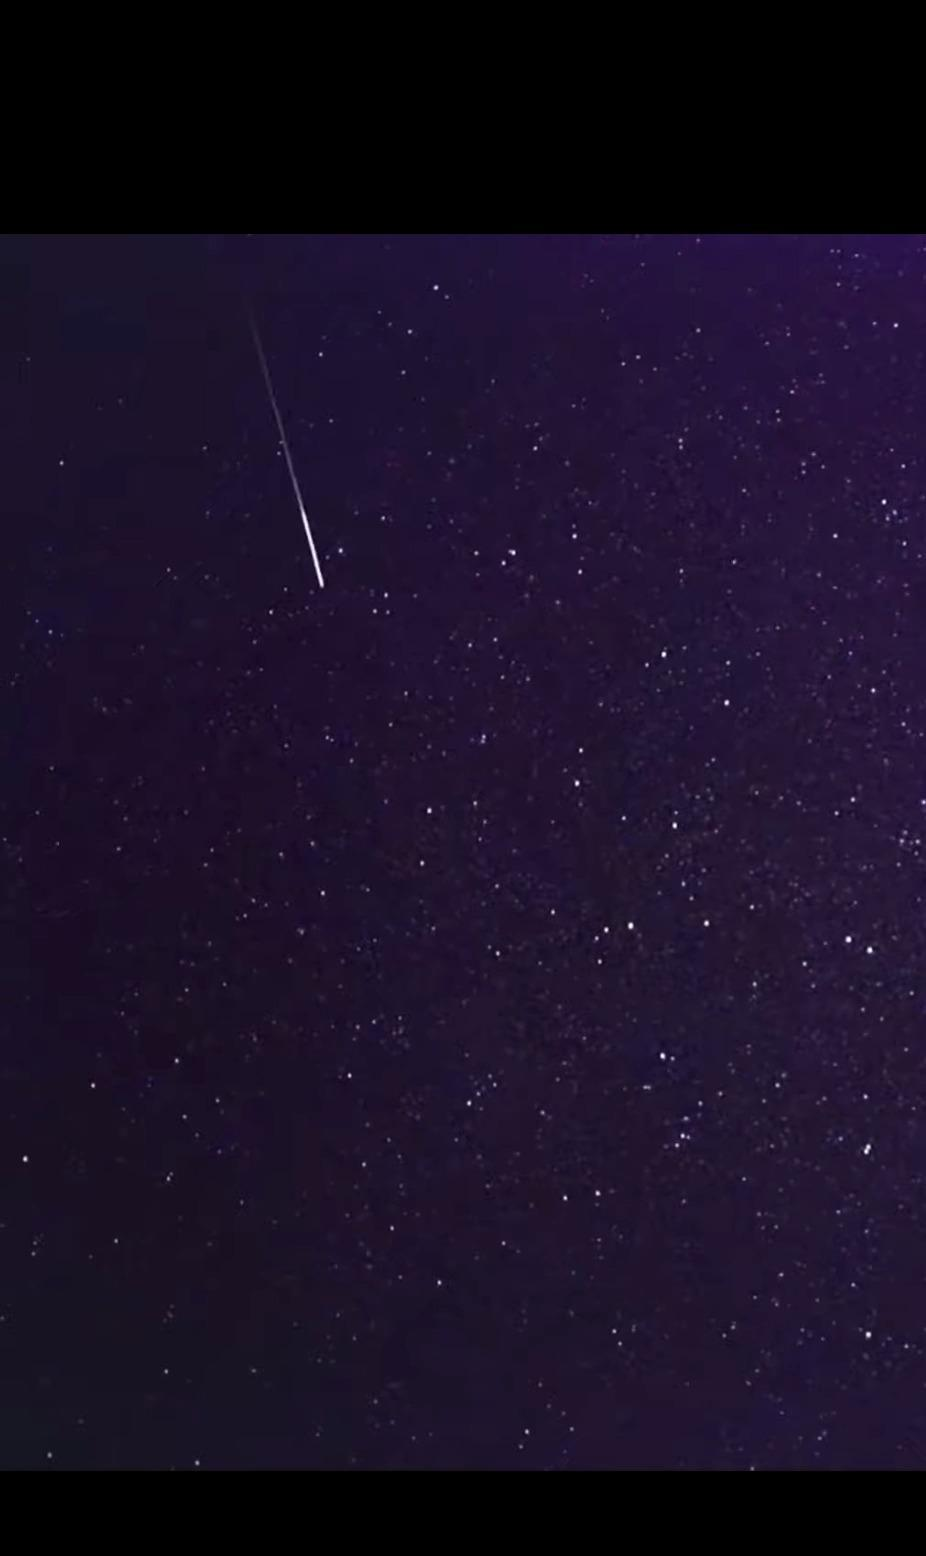meteorite: (218, 289, 354, 617)
